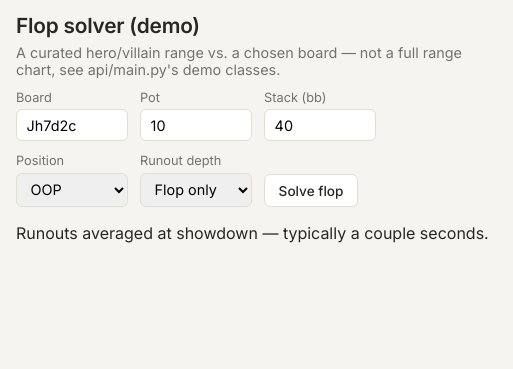
Test: FlopSolver › marks an untrained combo with a low-data indicator, and not a trained one
Click the button "Solve flop" at (311, 191), box 264,174 -> 358,207
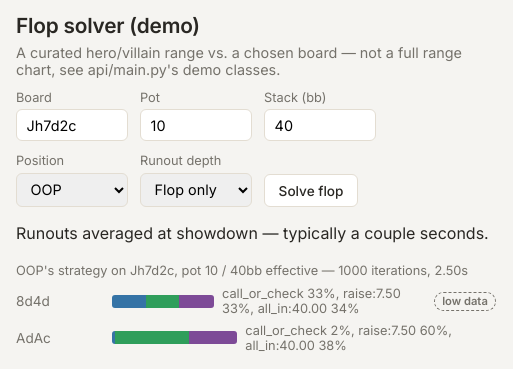
Expected: the text "AdAc" does not show "low data", 16,322 -> 496,352
Now the text "AdAc" is shown, box 16,330 -> 51,346
Now the text "low data" is shown, box 434,292 -> 496,311
